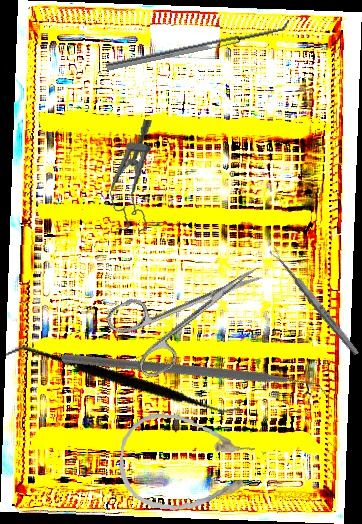Cannula: (115, 410, 258, 518)
Chopper: (60, 259, 331, 500)
Iris Scissors: (102, 239, 280, 385)
Spatula Surgical: (4, 292, 242, 471), (103, 17, 292, 71)
Speculum: (105, 116, 161, 235)
Surgical Spoon: (268, 246, 361, 357)
